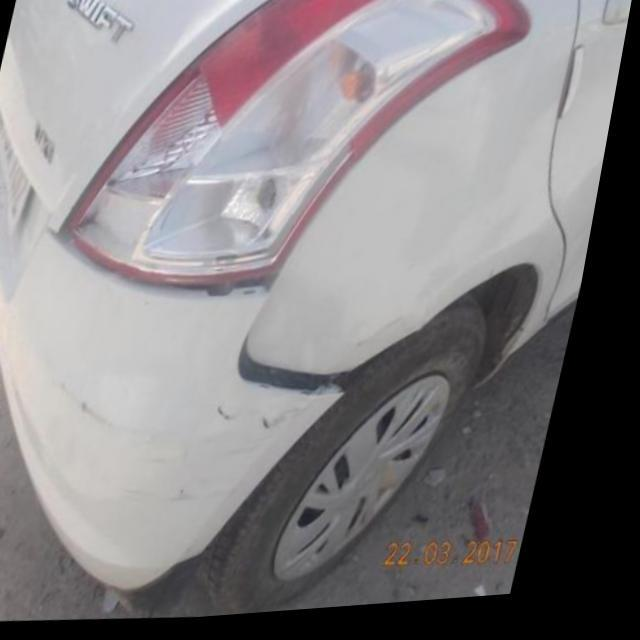crack: (74, 380, 184, 447), (224, 397, 326, 445)
dislocated part: (250, 336, 385, 416), (148, 262, 292, 312)
lamp broken: (118, 5, 494, 271)
